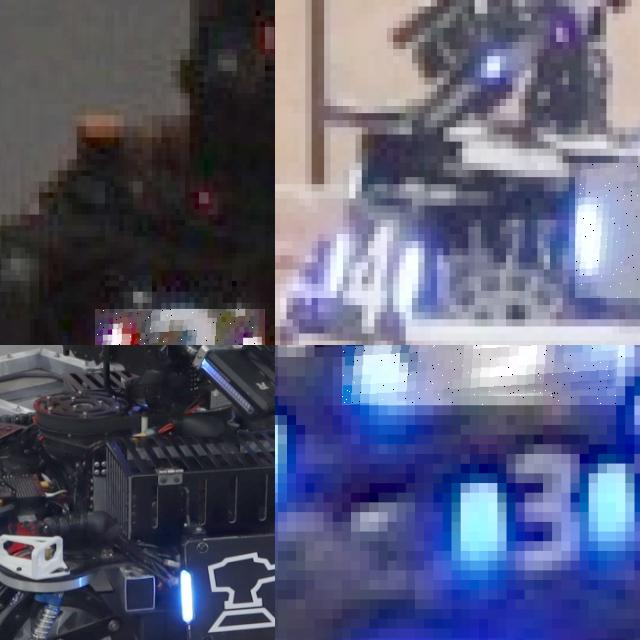B3: (424, 430, 635, 575), (341, 345, 625, 405), (575, 163, 640, 298)
B4: (317, 205, 424, 345)
Bs: (174, 545, 275, 635)
R2: (95, 308, 264, 345)
